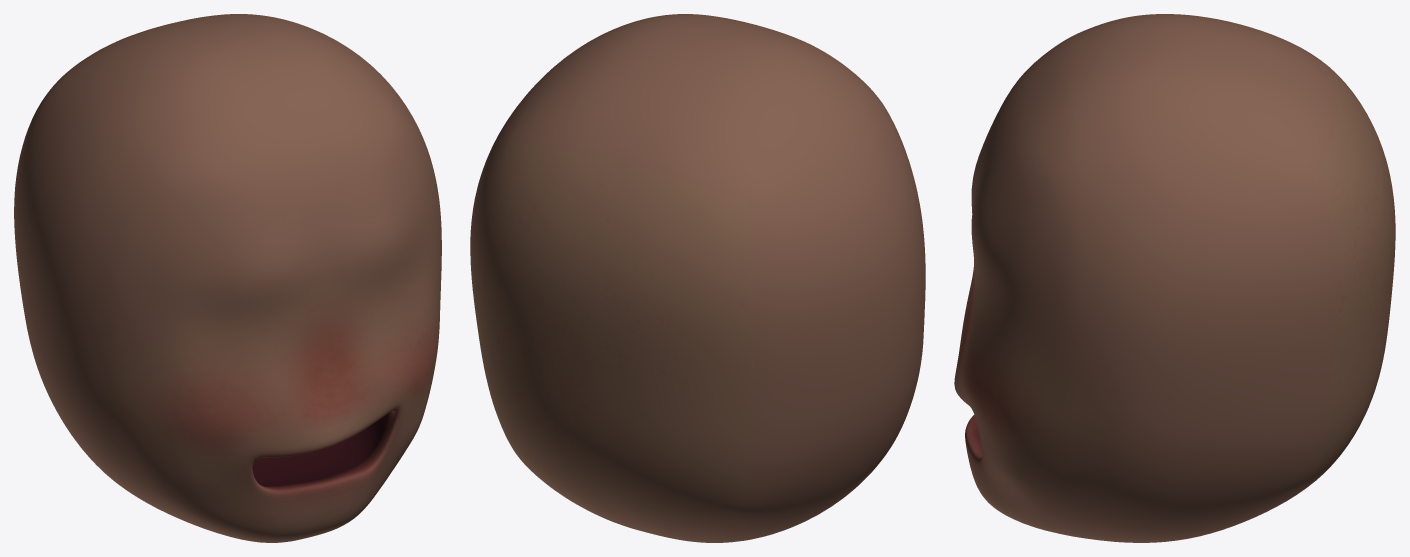
The model's file is head10.glb.
3 views of the same model, side by side, from view 1: azimuth 30°, elevation 25°; view 2: azimuth 150°, elevation 25°; view 3: azimuth 270°, elevation 25° (orthographic). The views are drawn at different scales.
Parts seen in each view (by area): view 1: head.010; view 2: head.010; view 3: head.010.
Part boxes in pixels (box(x1,y1,x2,y2)): head.010: box(14, 14, 441, 542); head.010: box(470, 14, 925, 542); head.010: box(954, 14, 1395, 542).
Size of the model in its own units: 1.35 by 1.62 by 1.34.
1 material, 1 textured.
